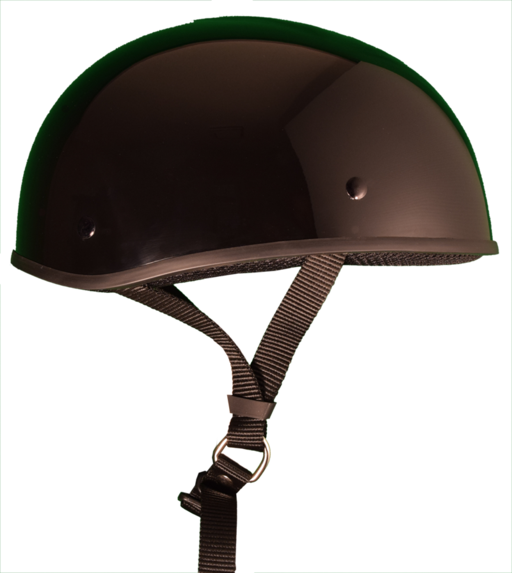with_helmet: (7, 7, 508, 322)
